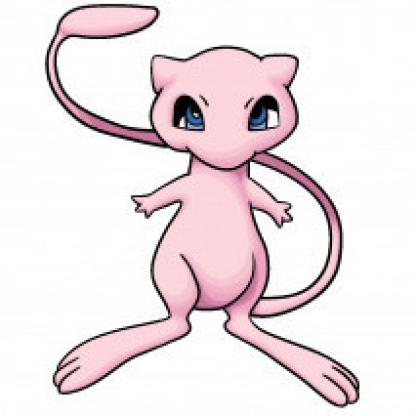Mew: (21, 1, 376, 409)
